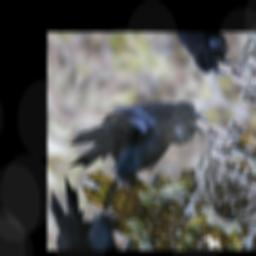Crow: (61, 53, 214, 225)
